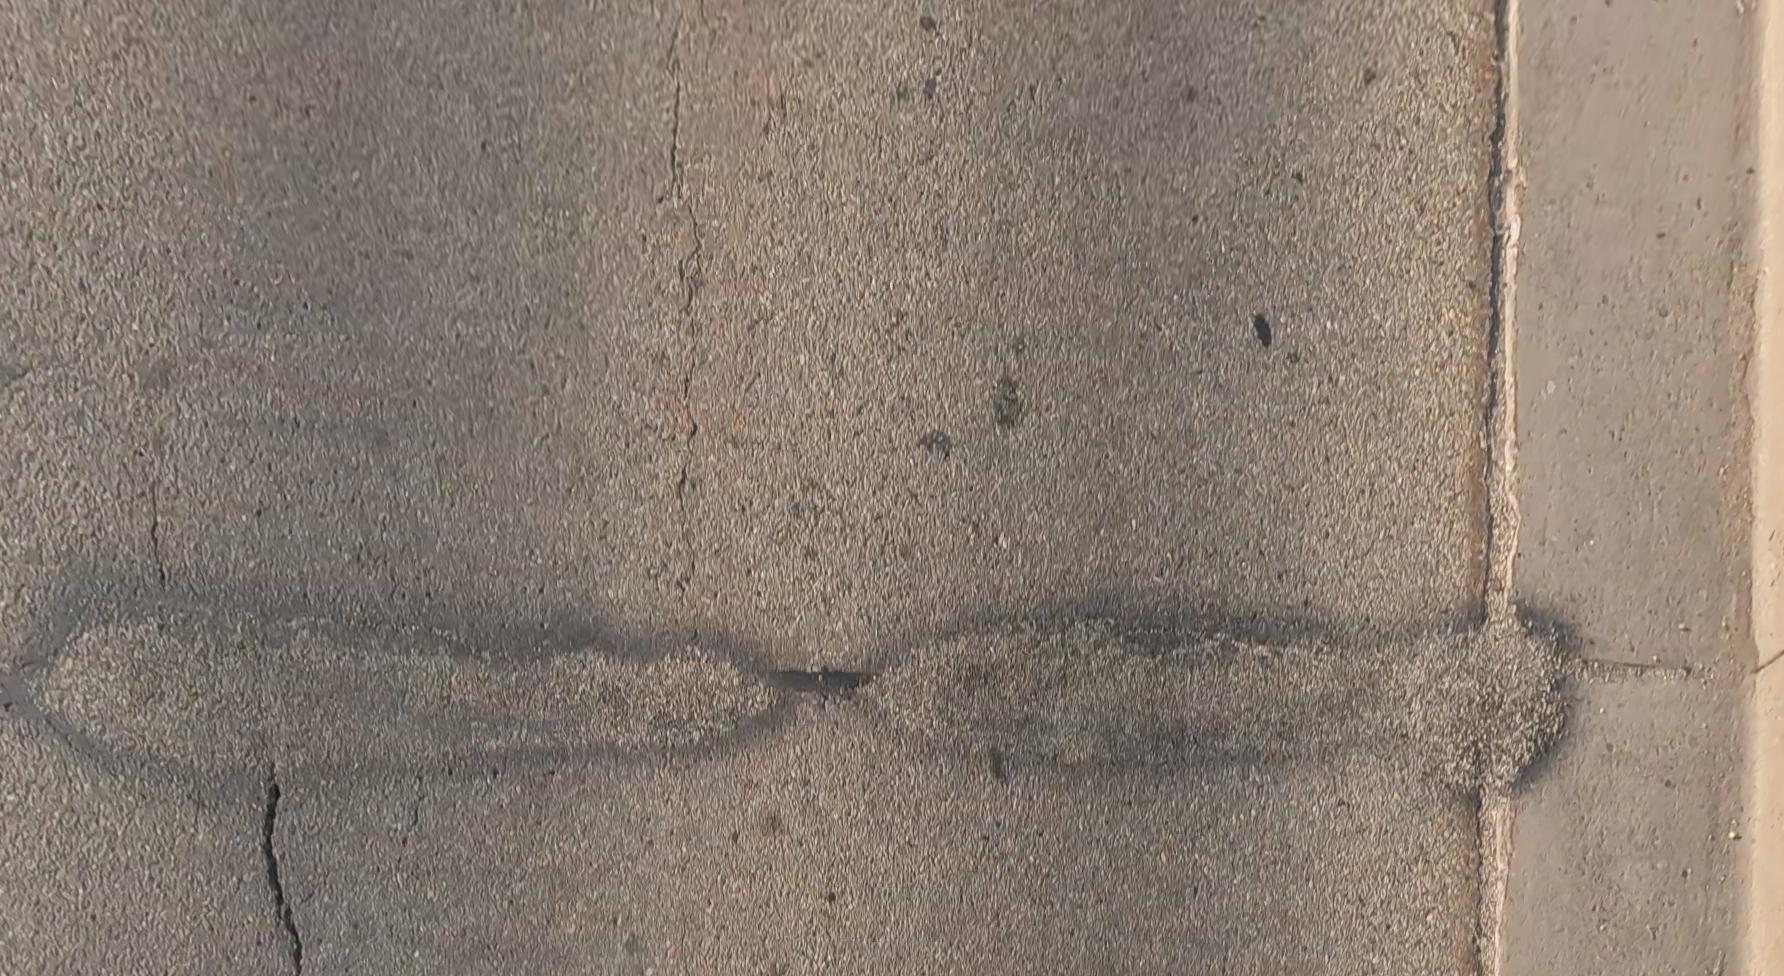pothole_patch_poor: (22, 583, 770, 796), (861, 613, 1562, 786)
